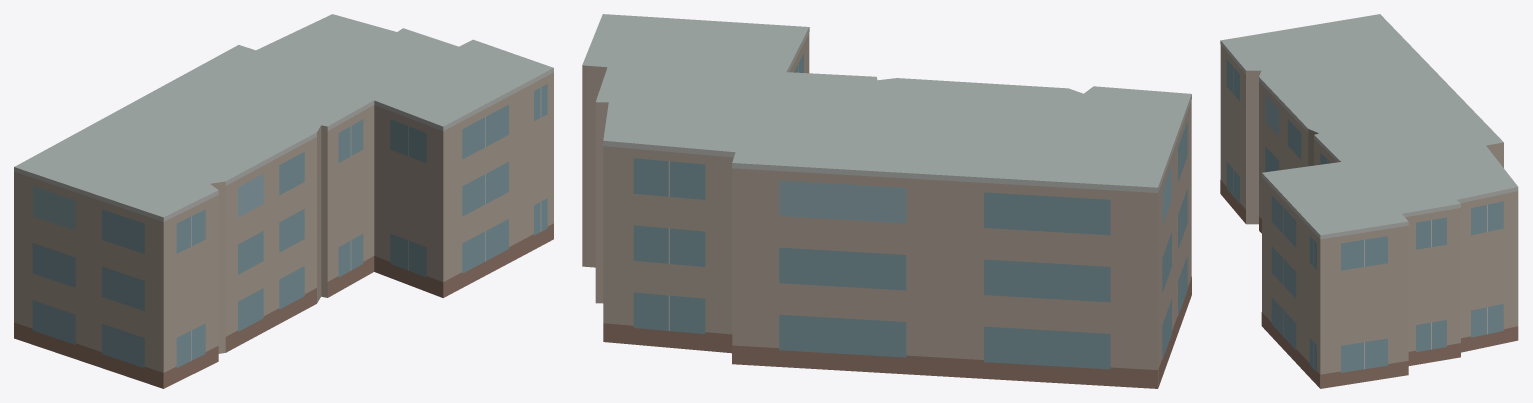
File: survey-upis-32995434.glb
3 renders of one model, left to right at view 1: azimuth 30°, elevation 25°; view 2: azimuth 150°, elevation 25°; view 3: azimuth 270°, elevation 25°, orthographic. The views are drawn at different scales.
Parts seen in each view (by area): view 1: survey-upis-32995434.tmp; view 2: survey-upis-32995434.tmp; view 3: survey-upis-32995434.tmp.
Boxes of the visible parts, bbox=[...] form: survey-upis-32995434.tmp: bbox=[14, 14, 553, 388]; survey-upis-32995434.tmp: bbox=[582, 14, 1191, 388]; survey-upis-32995434.tmp: bbox=[1220, 14, 1518, 388].
Bounding box in the file's own units: 28.29 × 9.15 × 16.09.
